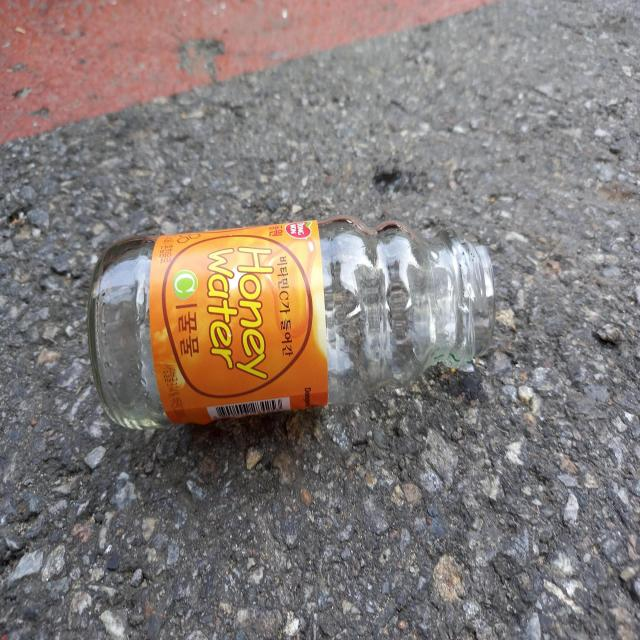glass: (87, 217, 496, 429)
